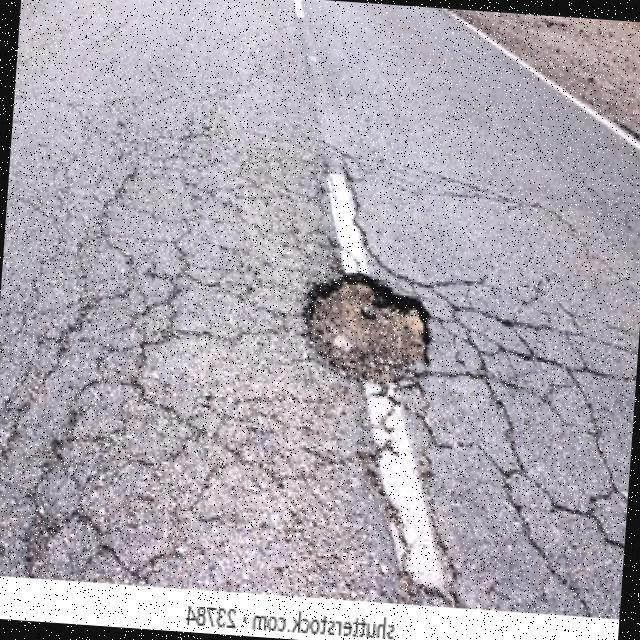Pothole: (303, 274, 431, 392)
